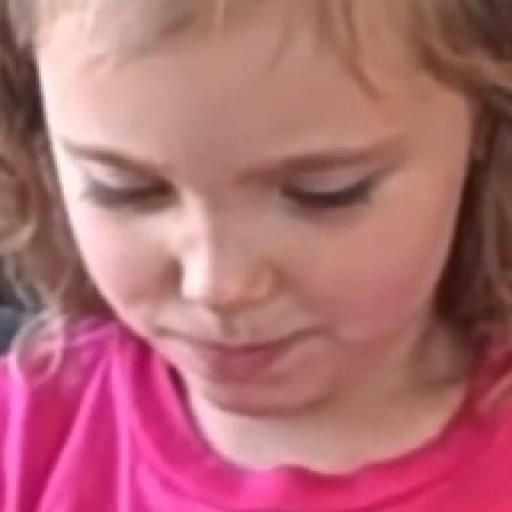Autism: (31, 11, 512, 466)
